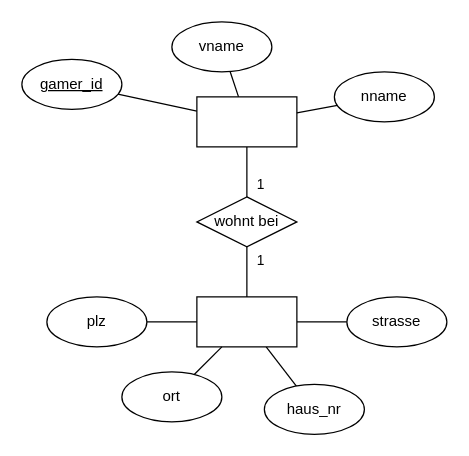
Image size: 469x456. Some labels were removed from this diagram. Each missing label, with the centre of its shape:
"Adresse" belongs at (x=246, y=321).
"Gamer" belongs at (x=246, y=121).
